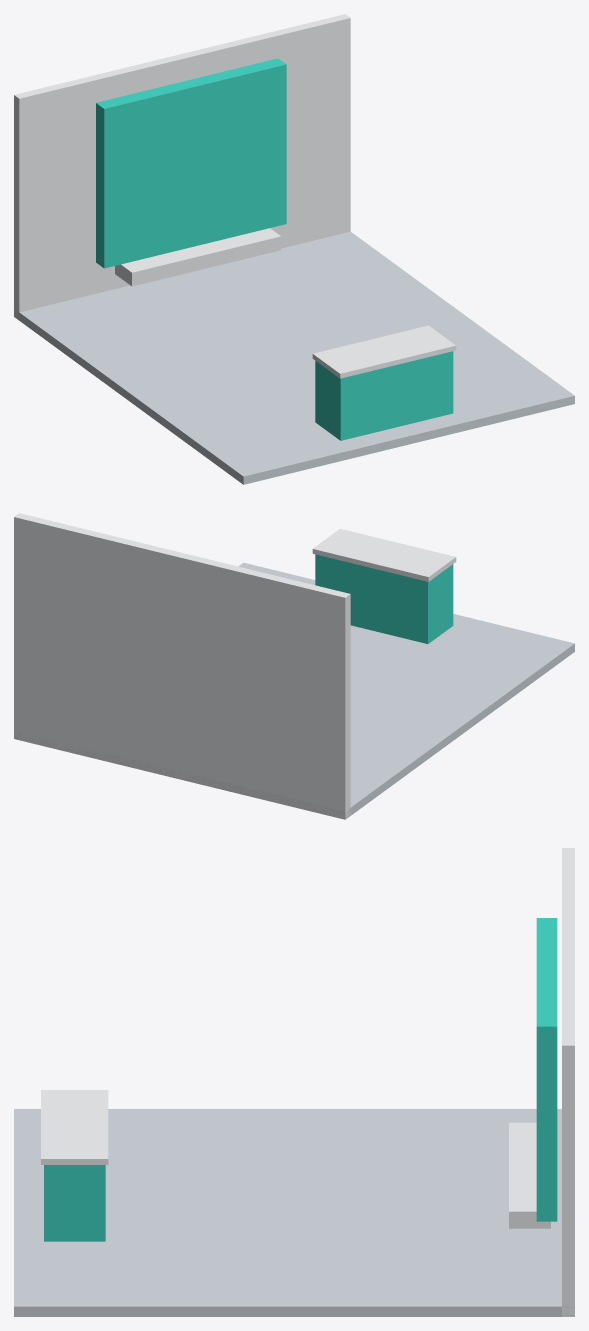
3 renders of one model, top to bottom at view 1: azimuth 30°, elevation 25°; view 2: azimuth 150°, elevation 25°; view 3: azimuth 270°, elevation 25°, orthographic. The views are drawn at different scales.
Parts seen in each view (by area): view 1: Exhibition Booth Concept; view 2: Exhibition Booth Concept; view 3: Exhibition Booth Concept.
Boxes of the visible parts, box(x1,y1,x2,y2) form: Exhibition Booth Concept: box(14, 14, 574, 484); Exhibition Booth Concept: box(14, 513, 574, 819); Exhibition Booth Concept: box(14, 848, 574, 1316).
Size of the model in its own units: 5 by 3.2 by 6.
